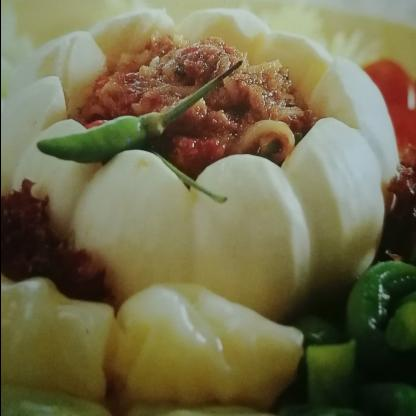Namprig: (35, 0, 402, 321)
